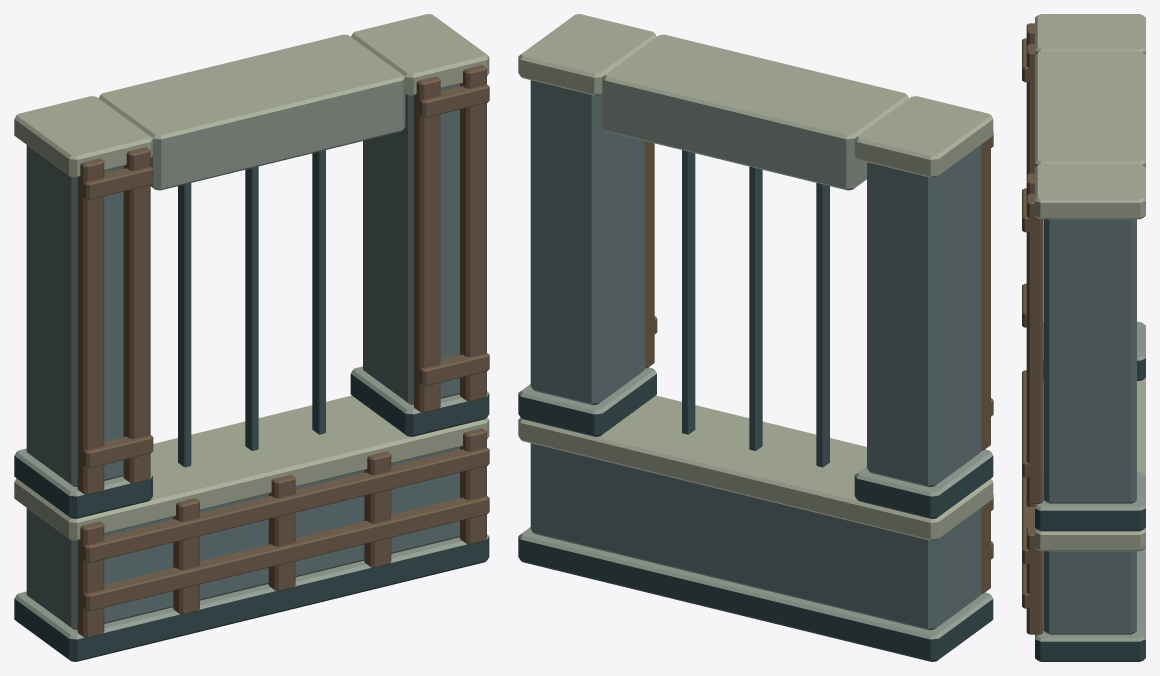
File: wall-window.glb
3 views of the same model, side by side, from view 1: azimuth 30°, elevation 25°; view 2: azimuth 150°, elevation 25°; view 3: azimuth 270°, elevation 25° (orthographic). The views are drawn at different scales.
Visible parts, largest first — view 1: wall-window__body; view 2: wall-window__body; view 3: wall-window__body.
Part boxes in pixels (x1,y1,x2,y2): wall-window__body: (14, 14, 489, 661); wall-window__body: (518, 14, 993, 661); wall-window__body: (1022, 14, 1145, 661).
Size of the model in its own units: 2 by 2.3 by 0.5575.
